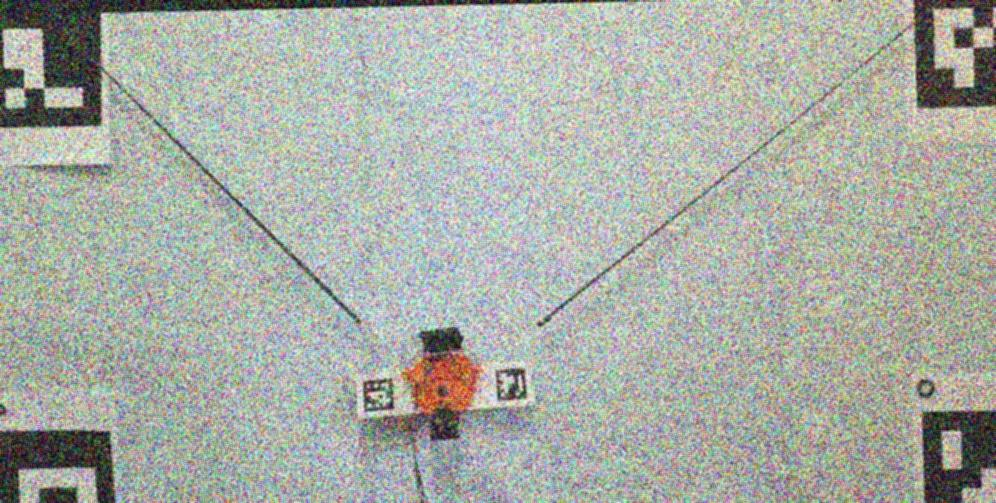robot: (404, 327, 483, 440)
